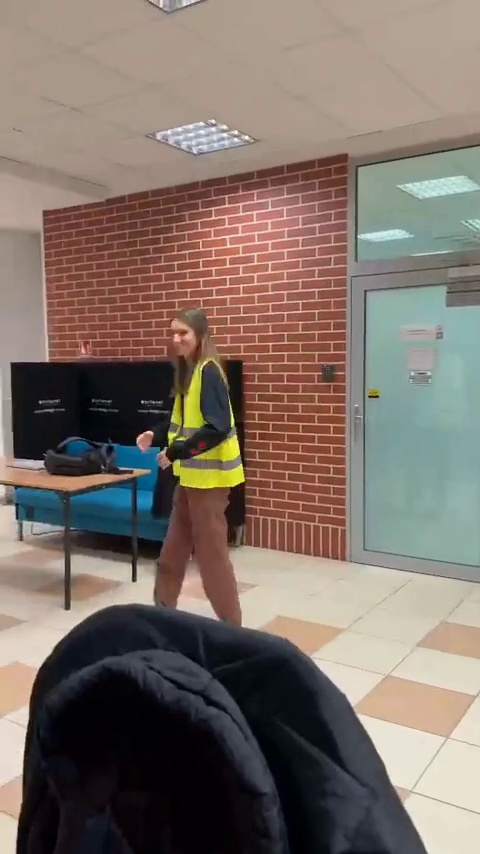vest: (143, 305, 260, 628)
